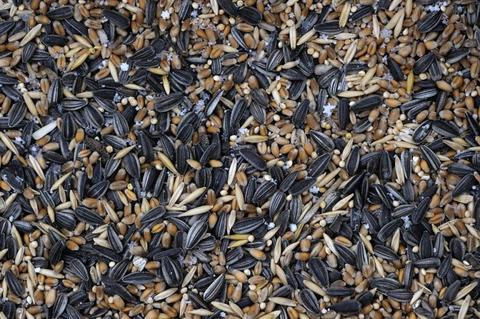seed: (1, 1, 480, 319)
